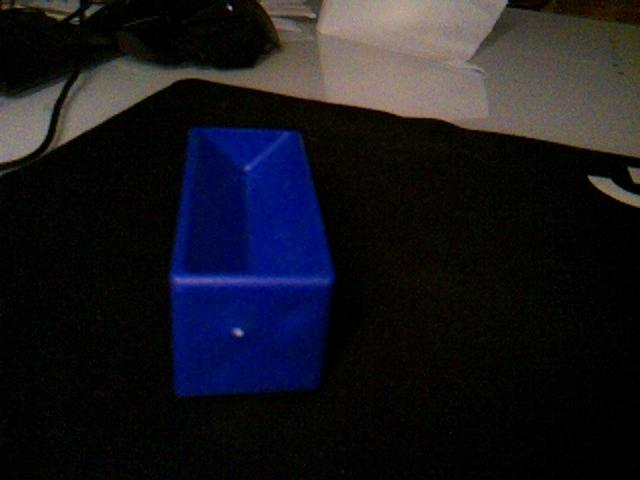blue: (167, 124, 338, 399)
